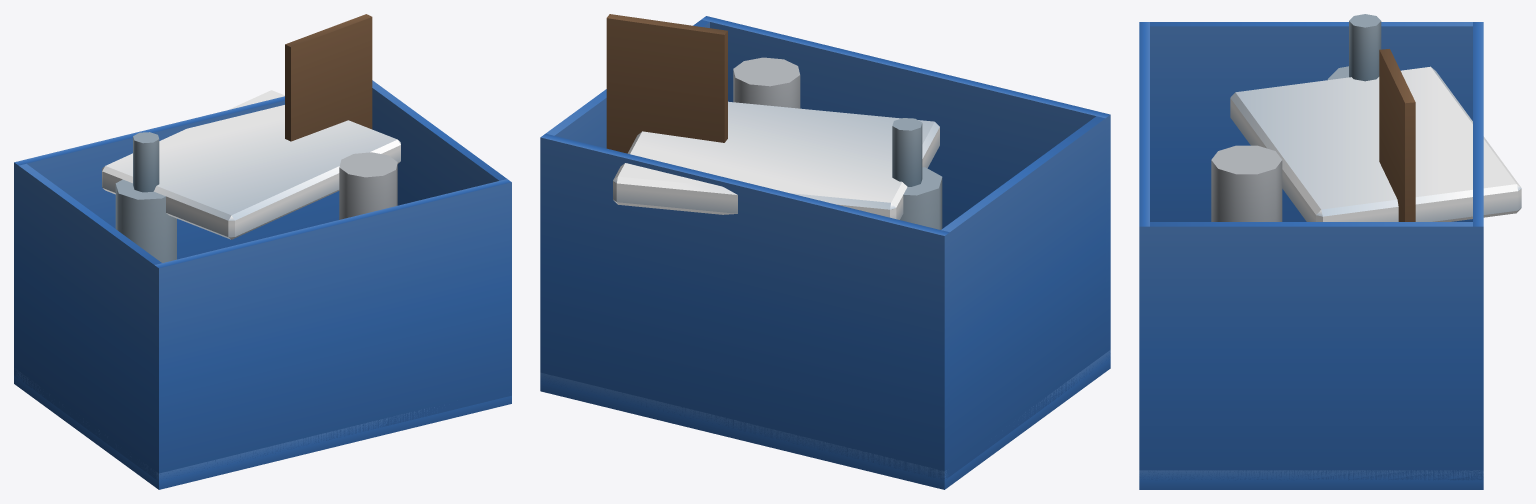
File: ck_recycling_box.fbx
The picture shows the model from 3 angles, left to right: view 1: azimuth 30°, elevation 25°; view 2: azimuth 150°, elevation 25°; view 3: azimuth 270°, elevation 25°; orthographic projection. The views are drawn at different scales.
Visible parts, largest first — view 1: ck_recycling_box; view 2: ck_recycling_box; view 3: ck_recycling_box.
Boxes of the visible parts, <box> form: ck_recycling_box: <box>14,14,511,489</box>; ck_recycling_box: <box>540,14,1110,489</box>; ck_recycling_box: <box>1139,14,1521,489</box>.
Bounding box in the file's own units: 140 × 118 × 111.
